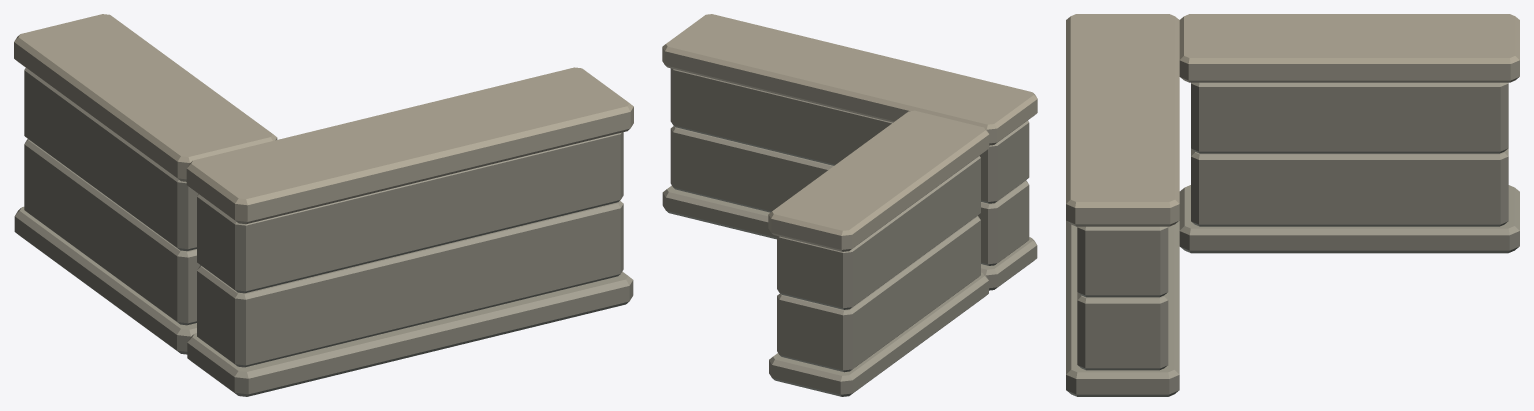
The model's file is wall-corner.glb.
3 views of the same model, side by side, from view 1: azimuth 30°, elevation 25°; view 2: azimuth 150°, elevation 25°; view 3: azimuth 270°, elevation 25° (orthographic). The views are drawn at different scales.
Parts seen in each view (by area): view 1: wall-corner; view 2: wall-corner; view 3: wall-corner.
Boxes of the visible parts, <box> form: wall-corner: <box>14,14,633,396</box>; wall-corner: <box>662,14,1037,396</box>; wall-corner: <box>1066,14,1519,396</box>.
Size of the model in its own units: 2 by 0.95 by 2.
